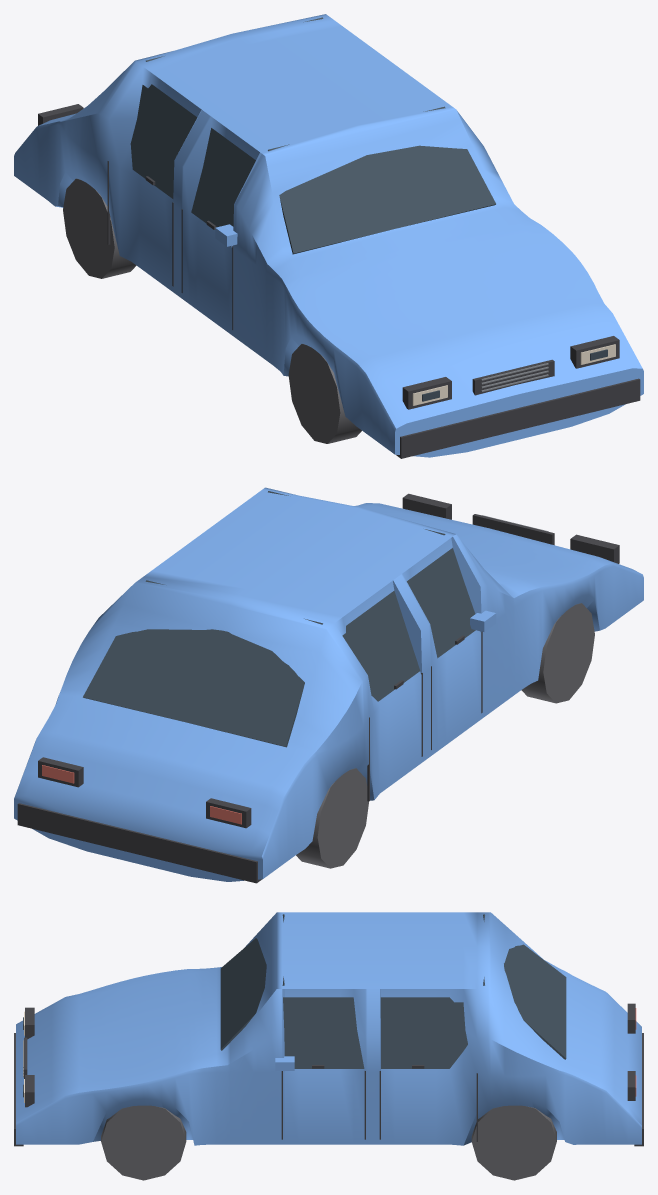
Rendered from Car_Sedan.fbx.
The picture shows the model from 3 angles, top to bottom: view 1: azimuth 30°, elevation 25°; view 2: azimuth 150°, elevation 25°; view 3: azimuth 270°, elevation 25°; orthographic projection. The views are drawn at different scales.
Parts seen in each view (by area): view 1: LOD0; view 2: LOD0; view 3: LOD0.
Part boxes in pixels (left/top/right/bottom): LOD0: left=14, top=14, right=643, bottom=458; LOD0: left=14, top=487, right=643, bottom=883; LOD0: left=14, top=912, right=643, bottom=1180.
Size of what is drawn, in the model's own units: 186 by 147 by 459.
